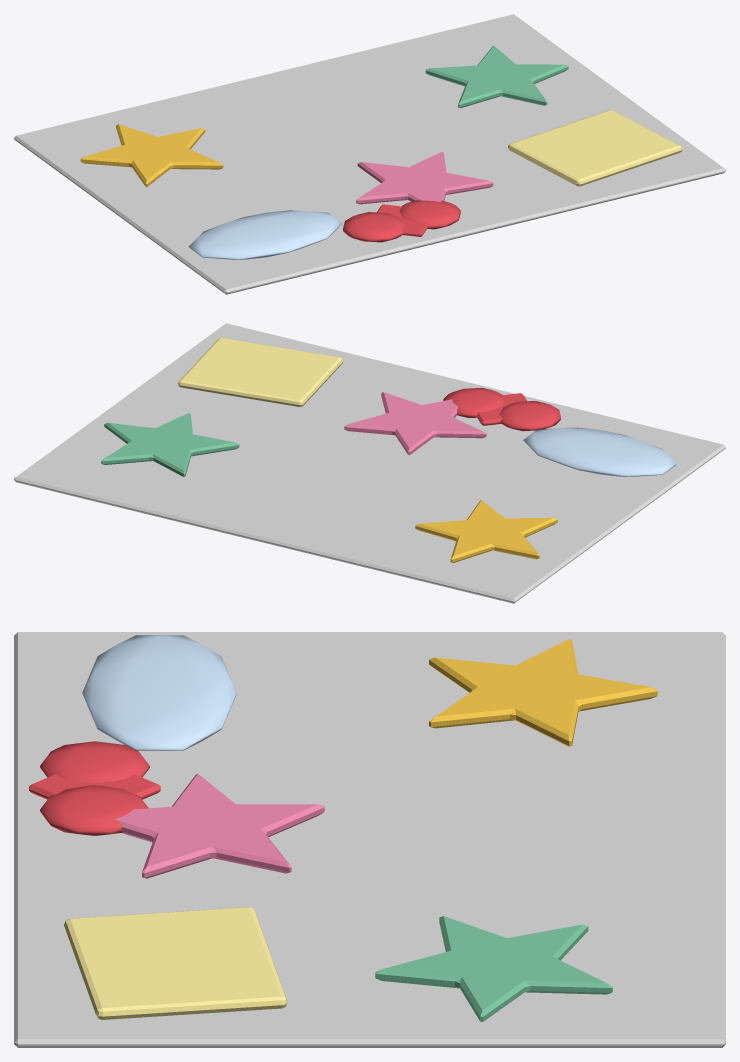
The model's file is stickers.glb.
3 views of the same model, one above another, from view 1: azimuth 30°, elevation 25°; view 2: azimuth 150°, elevation 25°; view 3: azimuth 270°, elevation 25° (orthographic). The views are drawn at different scales.
Parts seen in each view (by area): view 1: sheet, sticky-note, bubble, star, star.002, star.001, heart-lobe, heart-lobe.001, heart-point; view 2: sheet, sticky-note, bubble, star.002, star, star.001, heart-lobe, heart-lobe.001, heart-point; view 3: sheet, sticky-note, bubble, star.002, star, star.001, heart-lobe.001, heart-lobe, heart-point.
Boxes of the visible parts, left/top/right/bottom form: sheet: left=14, top=14, right=725, bottom=294; sticky-note: left=508, top=110, right=682, bottom=186; bubble: left=188, top=210, right=341, bottom=259; star: left=80, top=124, right=223, bottom=186; star.002: left=425, top=46, right=568, bottom=108; star.001: left=356, top=152, right=493, bottom=204; heart-lobe: left=343, top=212, right=404, bottom=242; heart-lobe.001: left=399, top=200, right=460, bottom=229; heart-point: left=377, top=204, right=427, bottom=236; sheet: left=14, top=323, right=725, bottom=603; sticky-note: left=178, top=337, right=343, bottom=406; bubble: left=523, top=427, right=676, bottom=476; star.002: left=101, top=413, right=239, bottom=477; star: left=415, top=500, right=557, bottom=562; star.001: left=344, top=392, right=486, bottom=455; heart-lobe: left=499, top=401, right=560, bottom=431; heart-lobe.001: left=443, top=387, right=504, bottom=418; heart-point: left=476, top=393, right=526, bottom=425; sheet: left=14, top=632, right=725, bottom=1047; sticky-note: left=64, top=907, right=287, bottom=1019; bubble: left=82, top=635, right=236, bottom=750; star.002: left=375, top=916, right=612, bottom=1022; star: left=429, top=639, right=657, bottom=746; star.001: left=114, top=773, right=324, bottom=878; heart-lobe.001: left=40, top=785, right=148, bottom=835; heart-lobe: left=40, top=741, right=149, bottom=783; heart-point: left=29, top=774, right=160, bottom=799.
Bounding box in the file's own units: 0.3 × 0.008 × 0.22.
